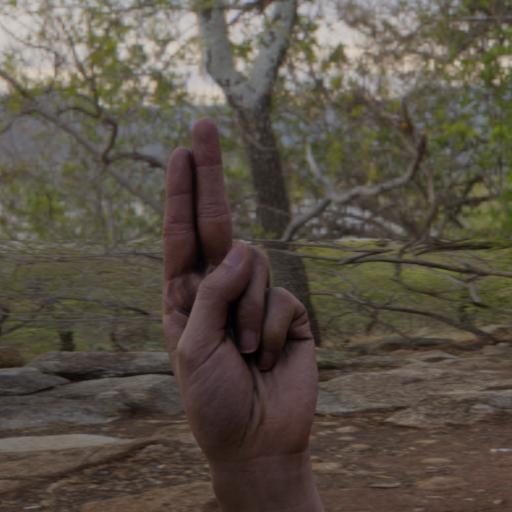U: (154, 110, 330, 472)
